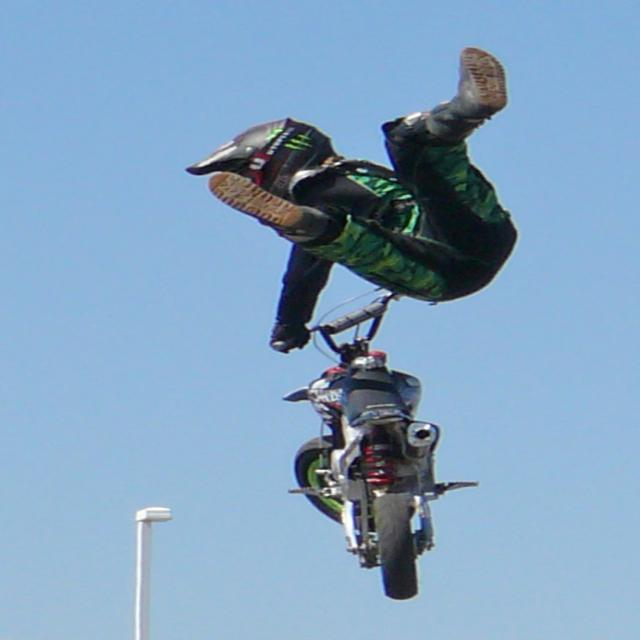Motorbikes: (244, 280, 486, 606)
